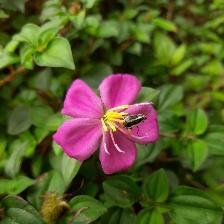malabar melastome: (54, 74, 161, 177)
